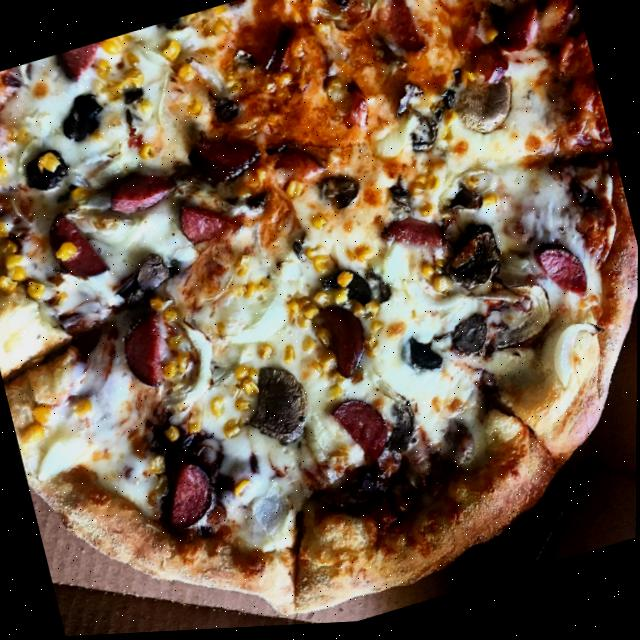mushrooms: (0, 0, 640, 640), (237, 358, 316, 453), (479, 280, 561, 358), (447, 72, 521, 146)
pepperoni: (45, 205, 109, 286), (330, 395, 395, 472), (118, 312, 175, 394), (158, 458, 220, 533), (319, 301, 373, 384), (533, 240, 590, 311), (105, 165, 176, 218), (177, 197, 229, 248), (55, 41, 105, 85)
pizza: (0, 0, 640, 640)
